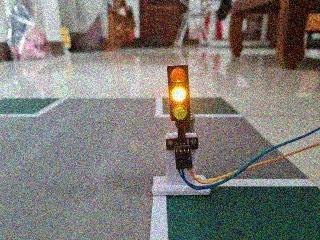yellow: (151, 54, 206, 133)
